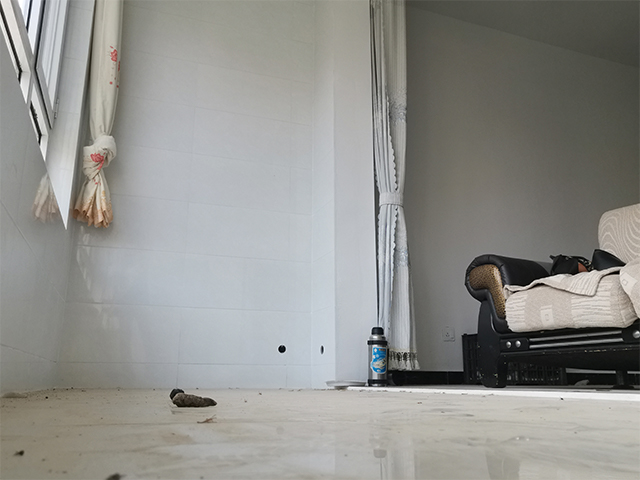curtain: (366, 1, 423, 375)
feces: (168, 385, 219, 409)
sofa: (463, 201, 640, 389)
